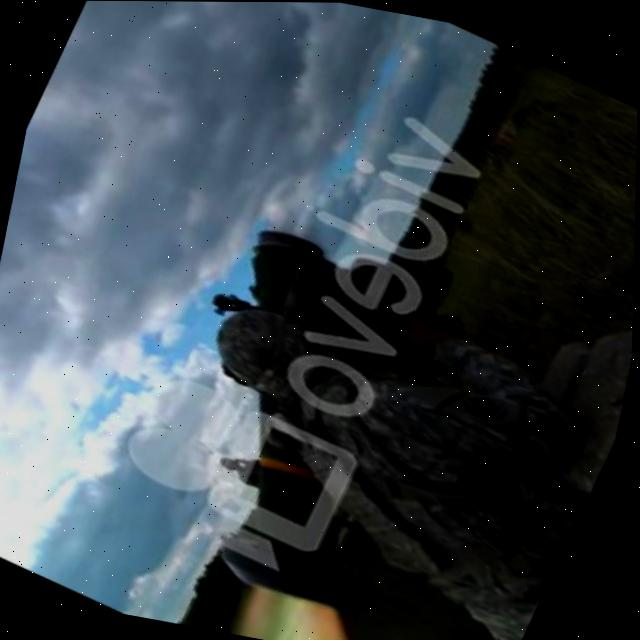rocket: (111, 204, 497, 639)
